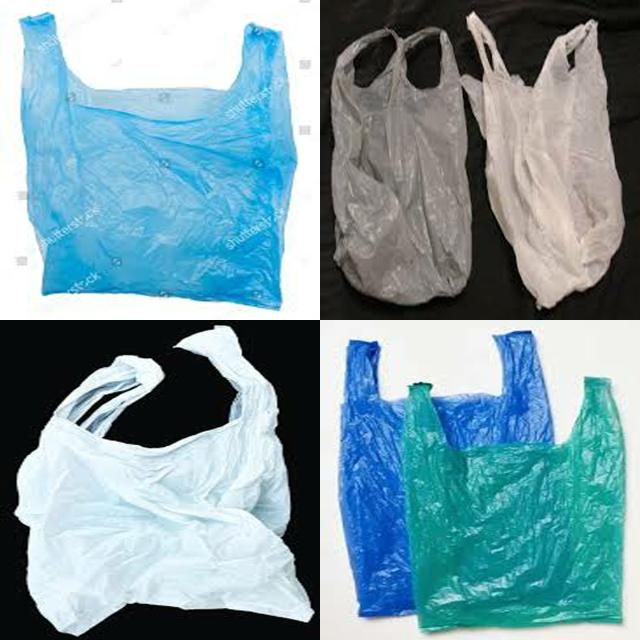Single-layer Plastic: (16, 326, 312, 635), (340, 331, 625, 630), (21, 14, 296, 309), (468, 14, 624, 308), (331, 28, 471, 305)
